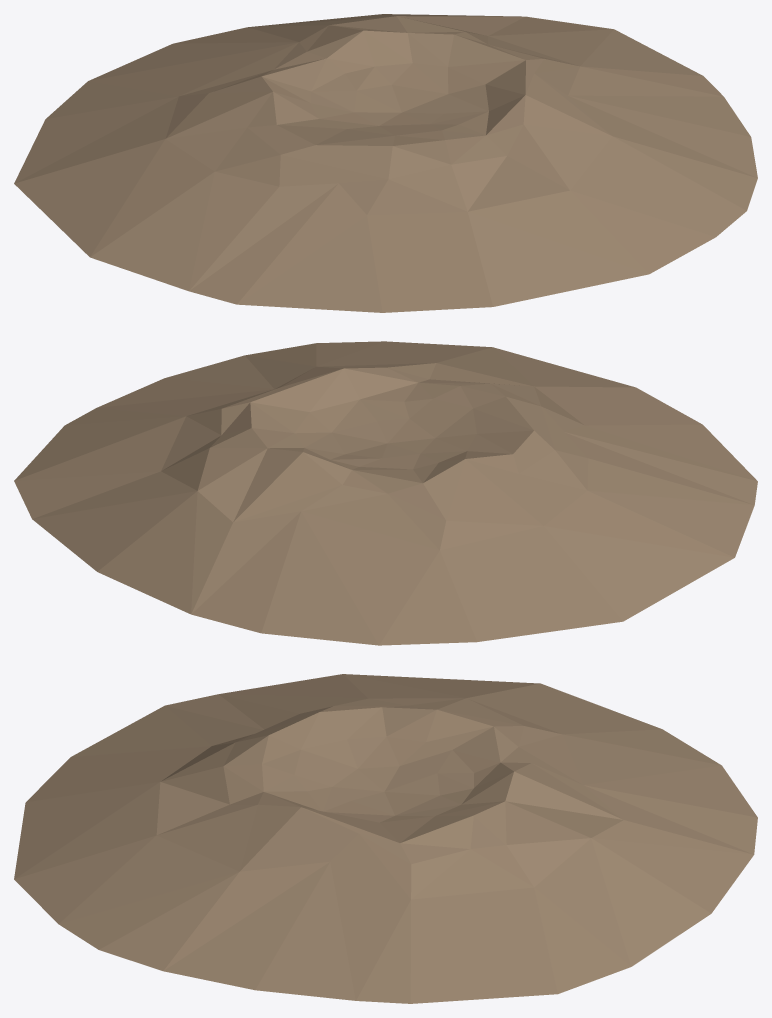
Rendered from SM_Env_Crater_01.glb.
The picture shows the model from 3 angles, top to bottom: view 1: azimuth 30°, elevation 25°; view 2: azimuth 150°, elevation 25°; view 3: azimuth 270°, elevation 25°; orthographic projection. The views are drawn at different scales.
Visible parts, largest first — view 1: SM_Env_Crater_01; view 2: SM_Env_Crater_01; view 3: SM_Env_Crater_01.
Boxes of the visible parts, left/top/right/bottom form: SM_Env_Crater_01: left=14, top=14, right=757, bottom=312; SM_Env_Crater_01: left=14, top=341, right=757, bottom=645; SM_Env_Crater_01: left=14, top=674, right=757, bottom=1003.
Bounding box in the file's own units: 5.01 × 0.5946 × 4.78.
1 material, 1 textured.
